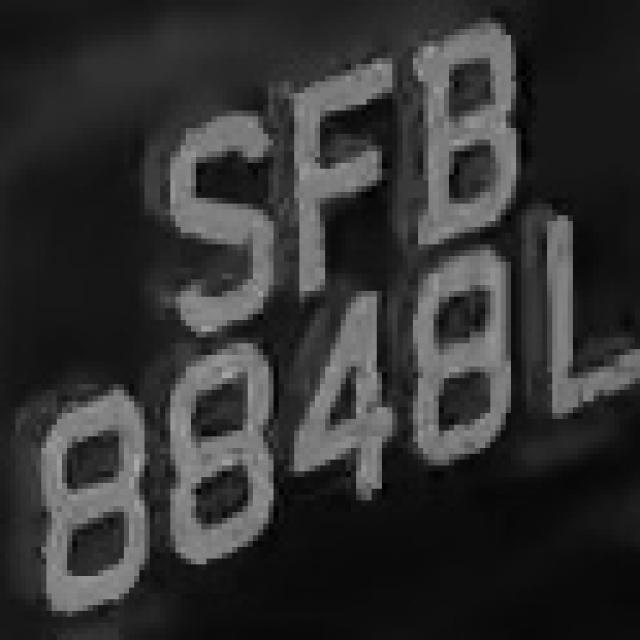4: (263, 285, 403, 524)
8: (20, 384, 154, 634), (392, 233, 522, 471), (155, 337, 279, 576)
B: (398, 18, 532, 250)
F: (274, 52, 408, 302)
L: (526, 192, 635, 431)
S: (140, 87, 274, 349)
